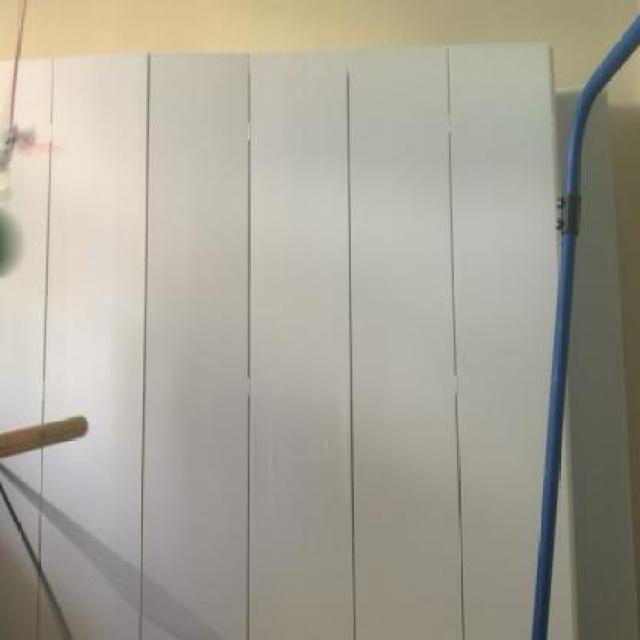baseball: (0, 204, 31, 282)
